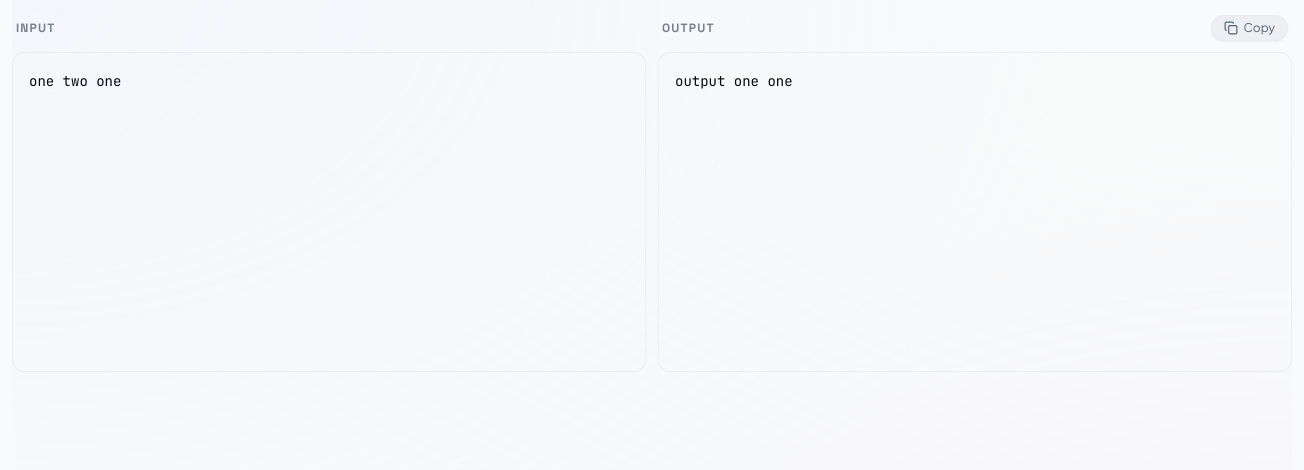
Test: ToolIoPanels find and replace › advances past a replacement that still contains the query
Press f
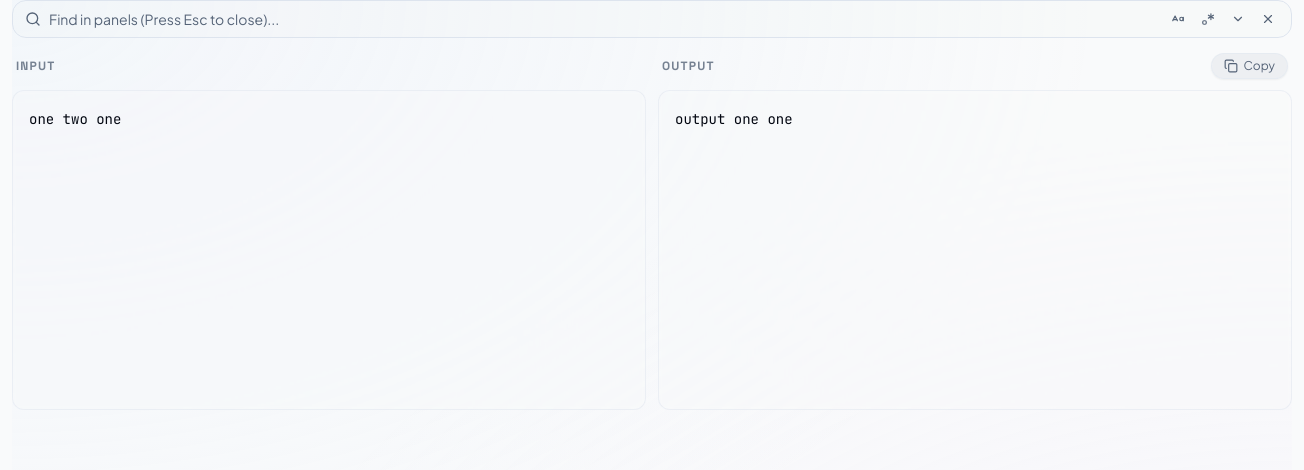
Click the button named "Toggle replace" at {"x": 1238, "y": 19}, box [1227,8,1249,30]
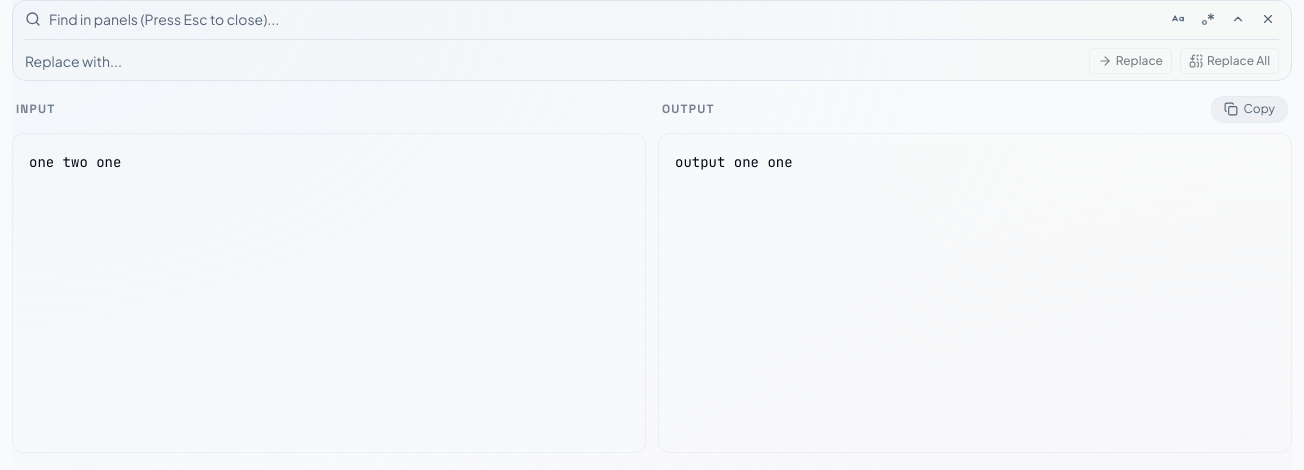
Type "one" into the field labelled "Find in panels" at {"x": 604, "y": 19}, box [49,7,1159,31]
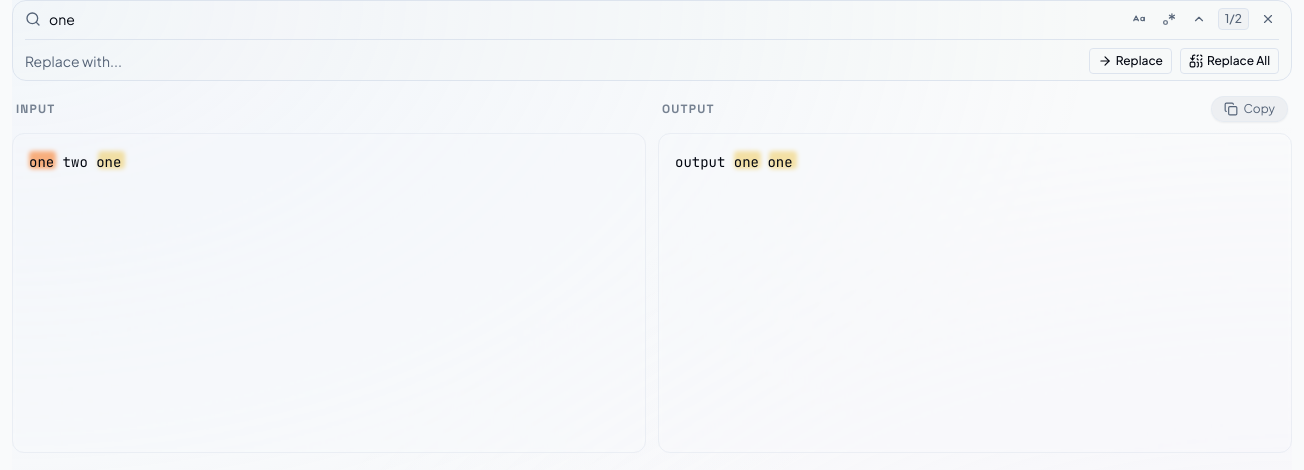
Type "one!" into the field labelled "Replace with" at {"x": 553, "y": 61}, box [25,49,1081,73]
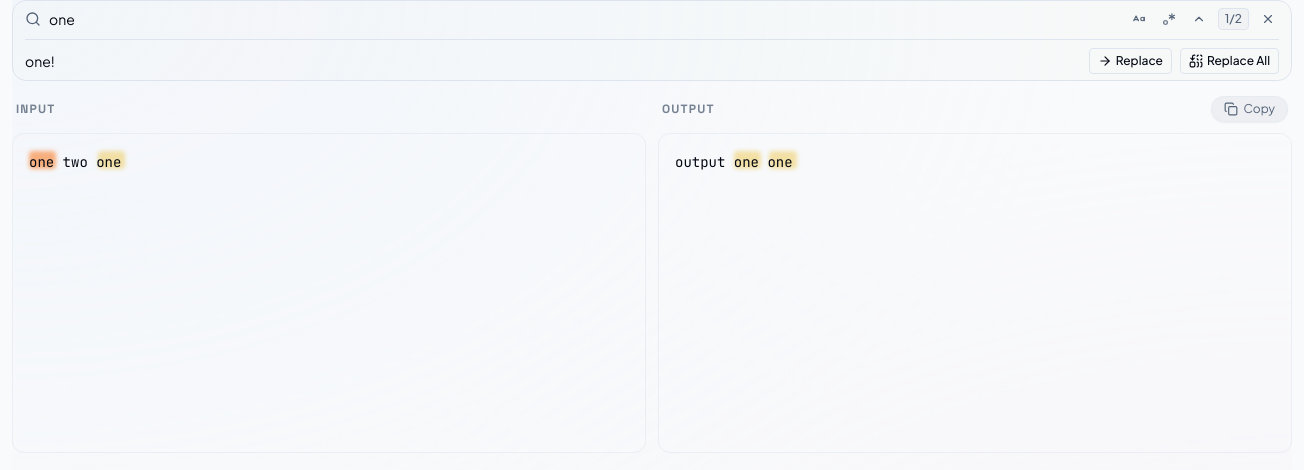
Click the button "Replace" at {"x": 1130, "y": 61}, box [1089,48,1172,74]
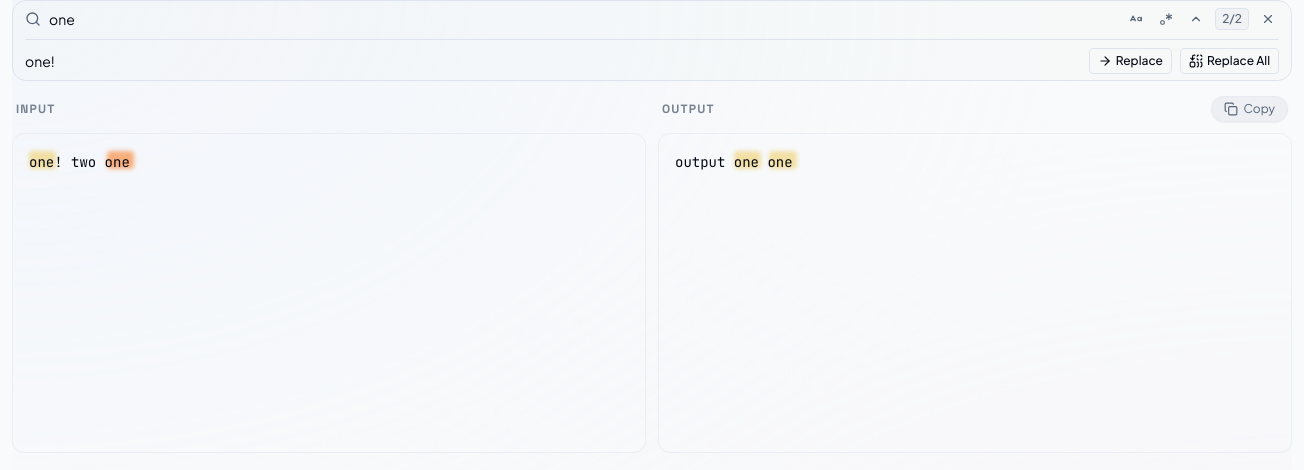
Now the text box showing "one! two one" in the row of "! two" is shown, box [12,133,646,453]
Now the text "2/2" is shown, box [1215,8,1249,30]
